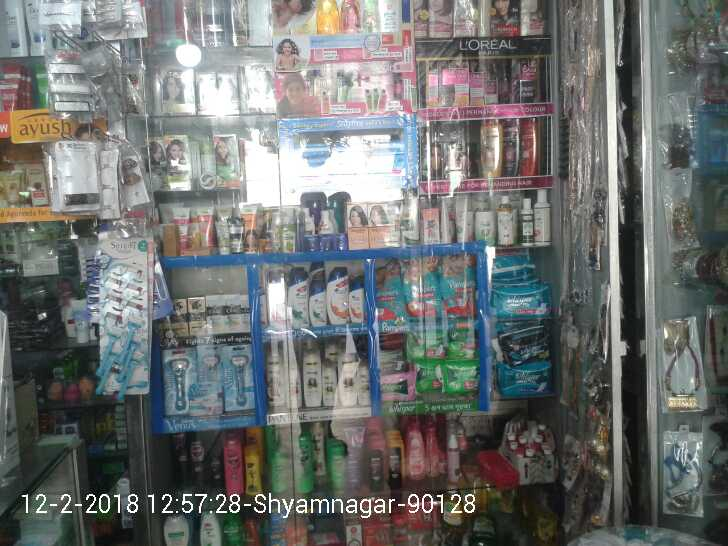venus: (90, 235, 154, 405), (228, 345, 254, 411), (162, 350, 188, 411), (189, 384, 228, 411), (198, 347, 223, 381)
